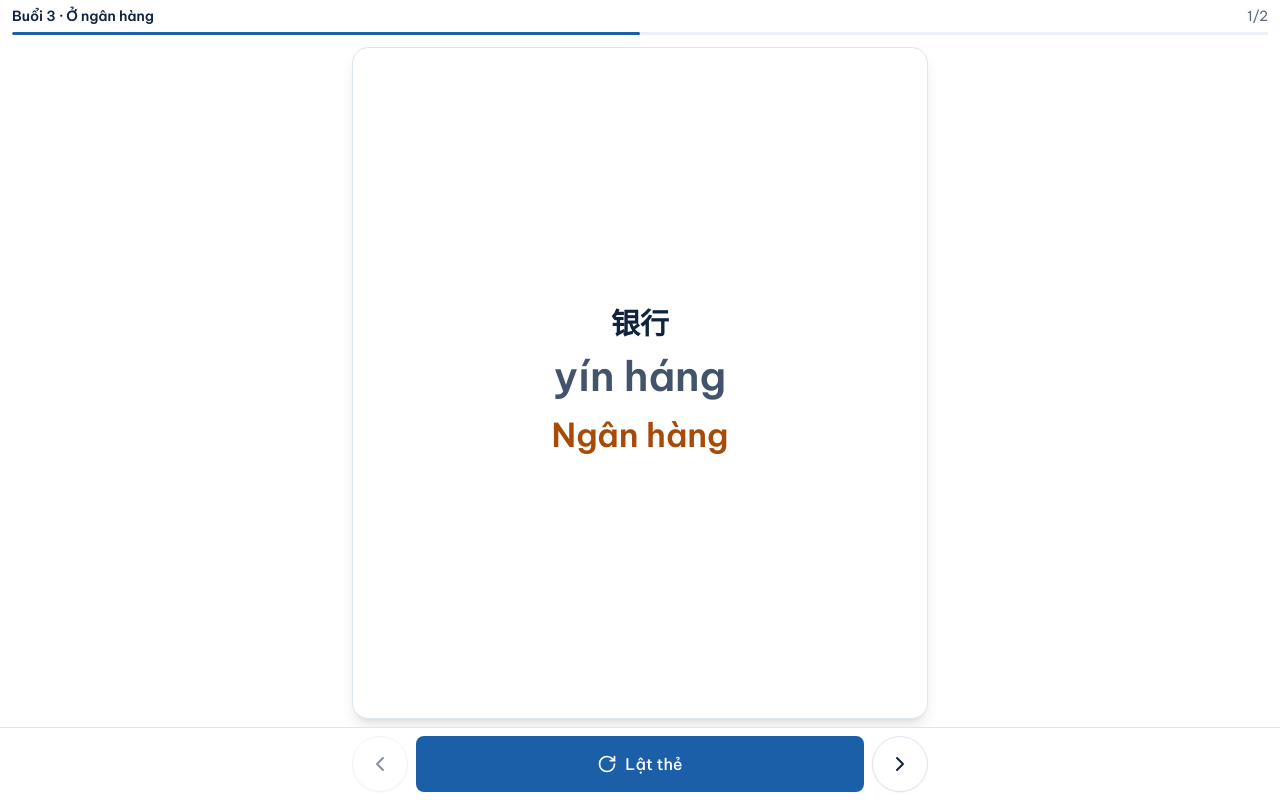
it: PublicFlashcardReader › chặn đúng biên: nút lùi khoá ở thẻ đầu, nút tiến khoá ở thẻ cuối
Expected: the button named "Thẻ trước" is disabled, [352,736,408,792]
Click the button named "Thẻ tiếp theo" at (900, 764), box [872,736,928,792]
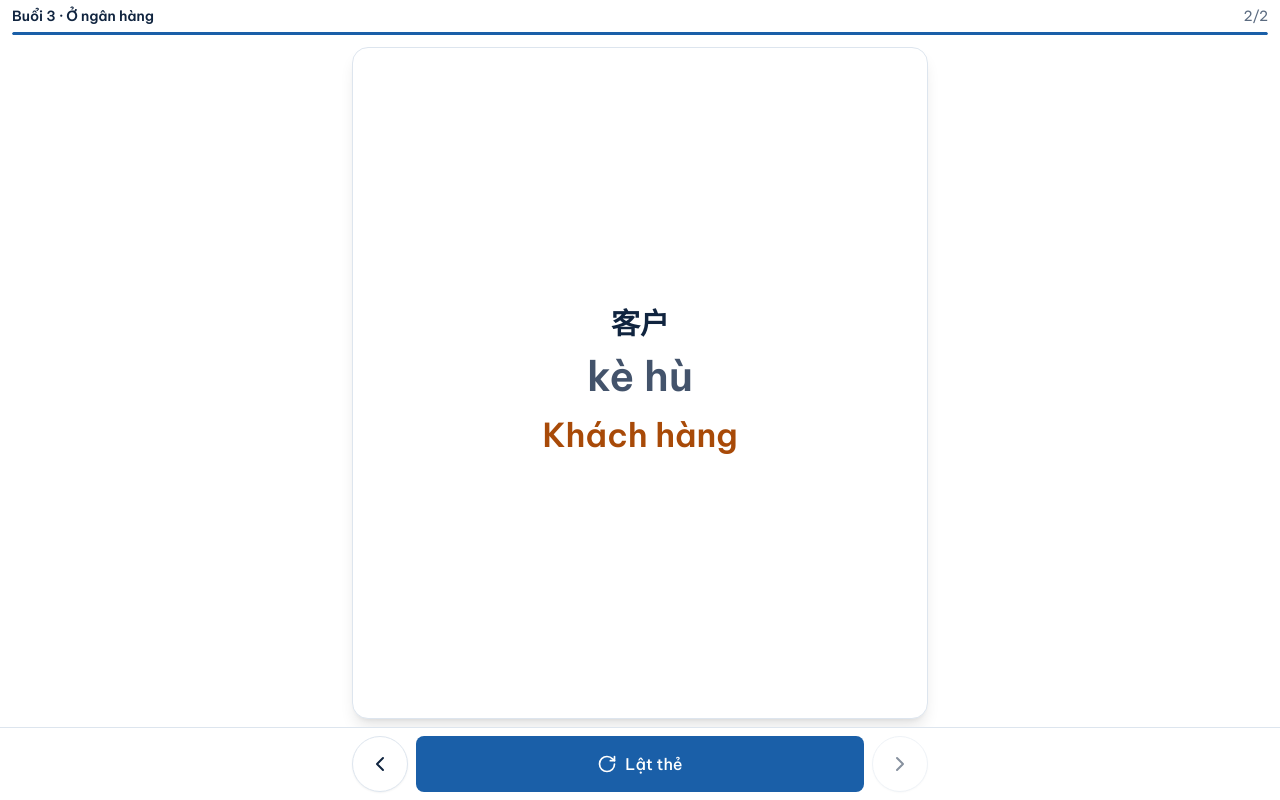
Expected: the button named "Thẻ tiếp theo" is disabled, [872,736,928,792]
